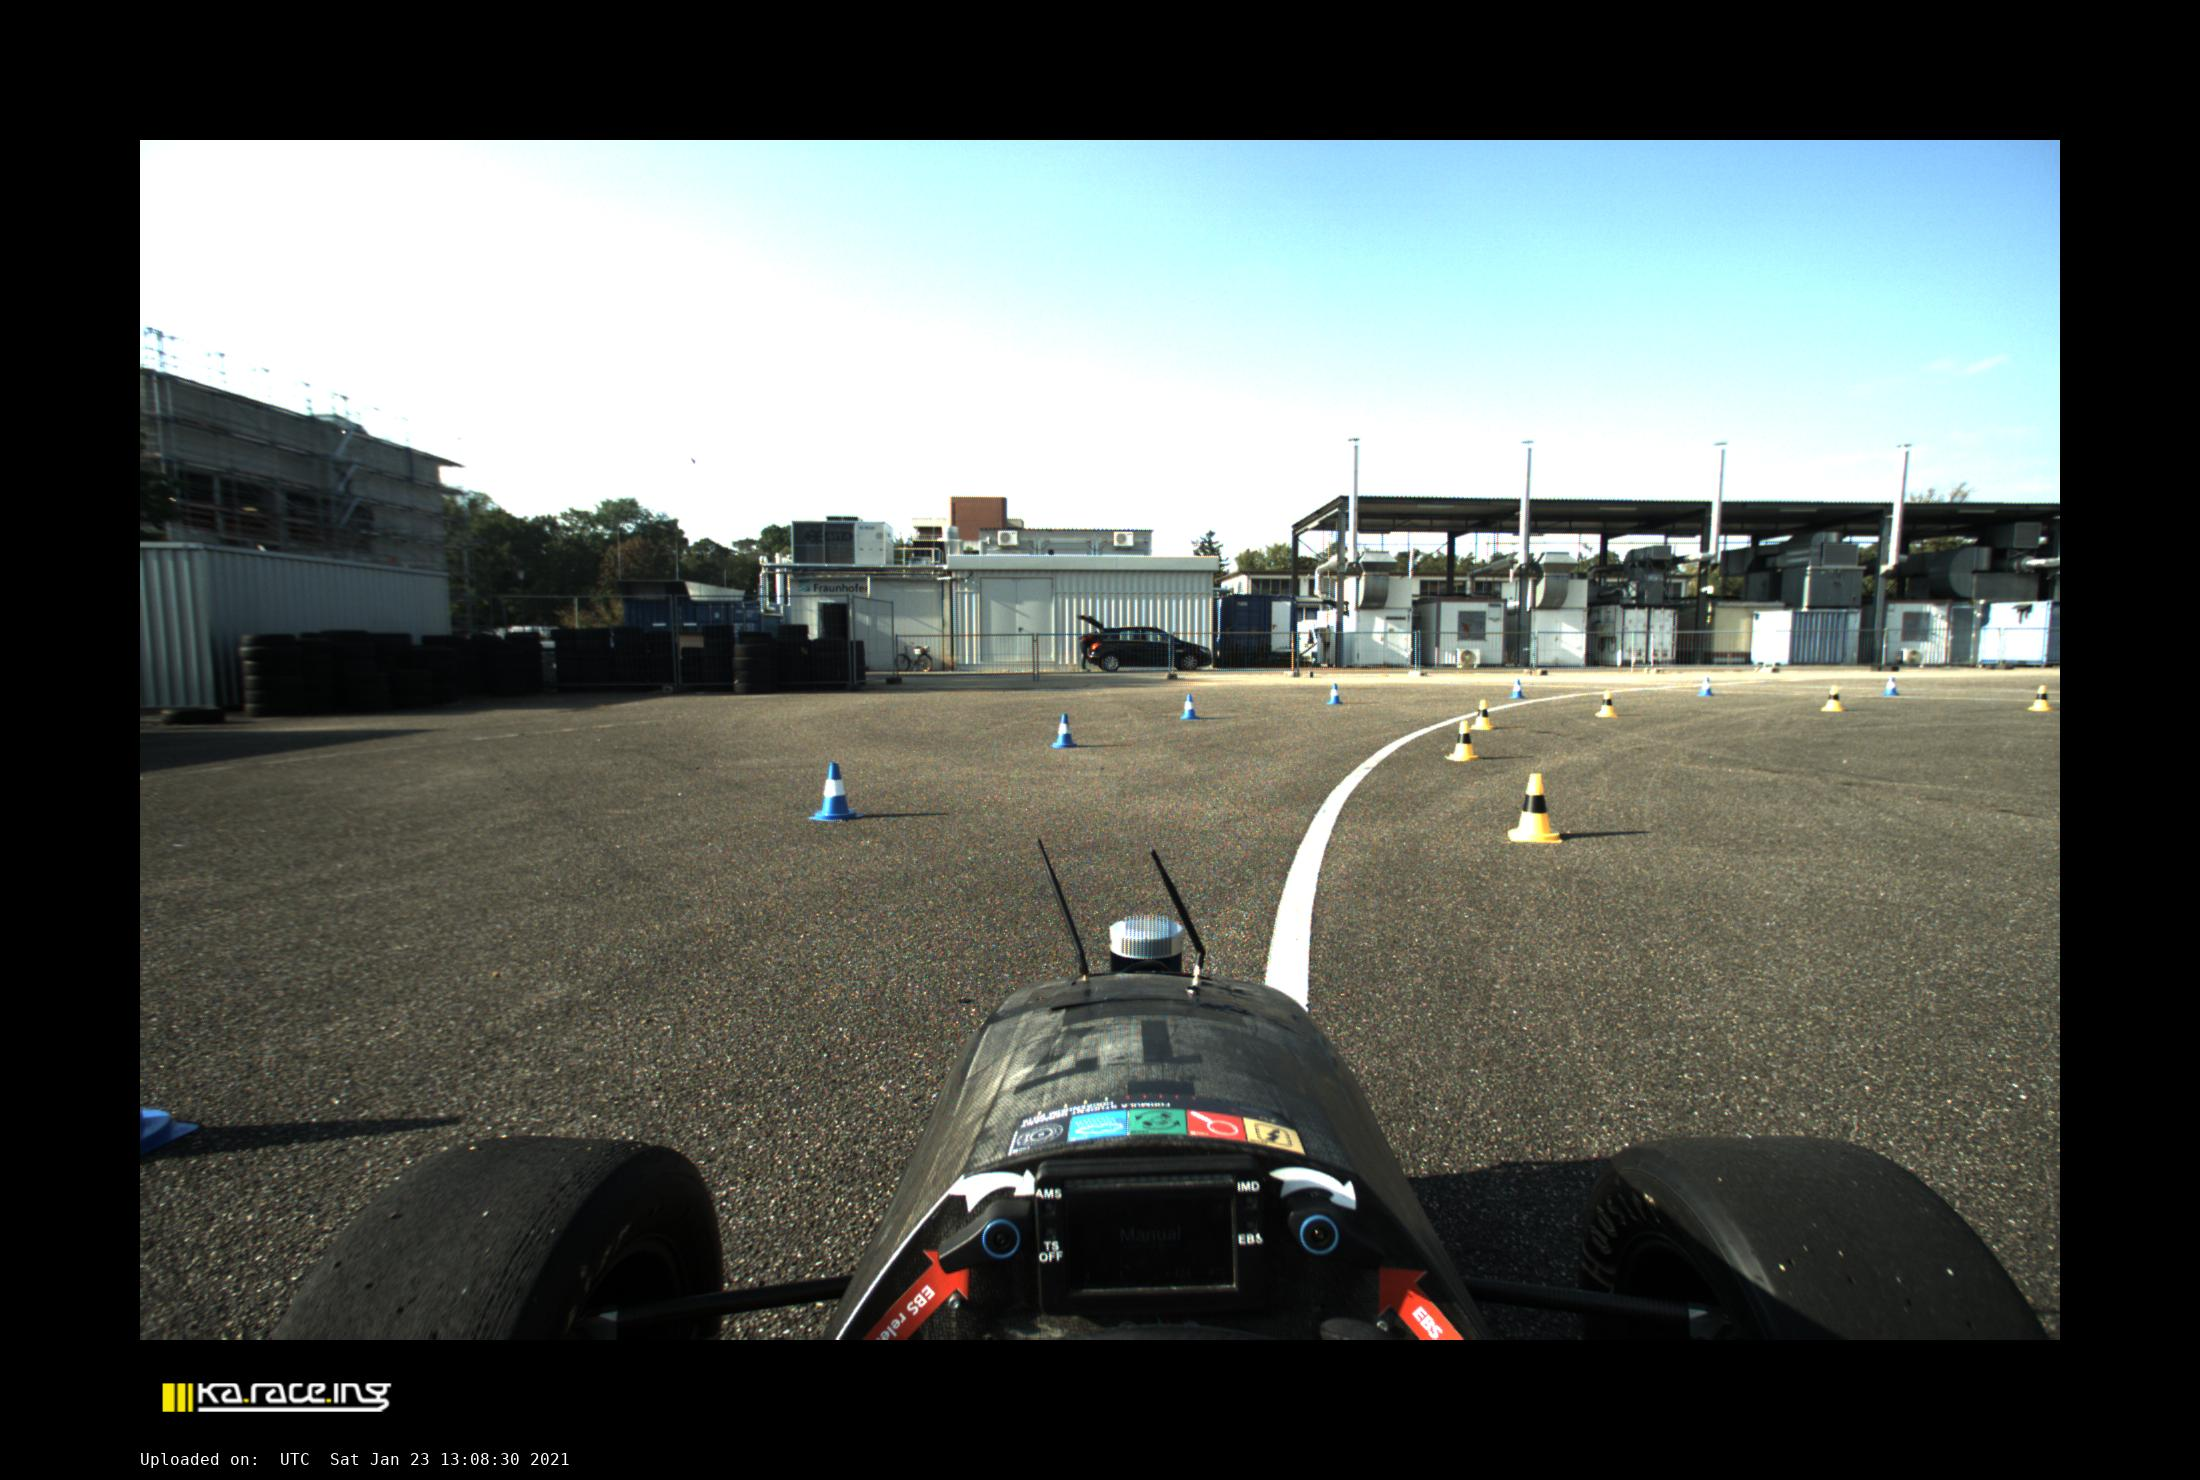blue_cone: (813, 761, 861, 819), (1050, 714, 1077, 747), (1179, 694, 1197, 719), (1881, 676, 1898, 695), (1696, 676, 1713, 695), (1326, 682, 1341, 704), (1510, 679, 1524, 699)
yellow_cone: (1510, 773, 1559, 841), (1448, 719, 1477, 760), (1470, 699, 1491, 730), (2027, 684, 2051, 710), (1595, 690, 1617, 717), (1822, 685, 1843, 710)
